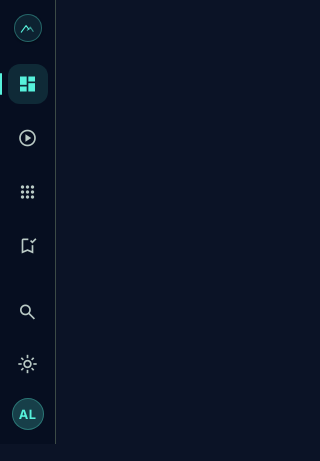
Test: Rail — account menu behind the avatar › closes on Escape
The image size is (320, 461).
Click the button with aria-label "account: ada lovelace": (28,414) [12,398,44,430]
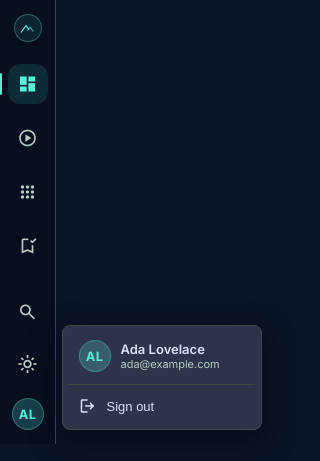
Result: the menu is shown at [62,325,262,430]
Press Escape
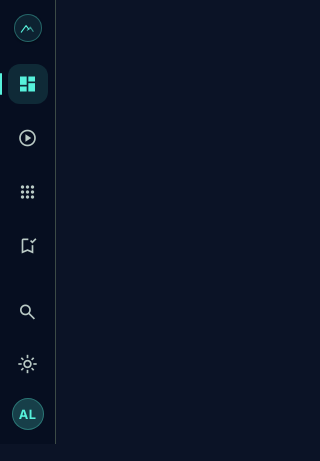
Result: the menu is gone
